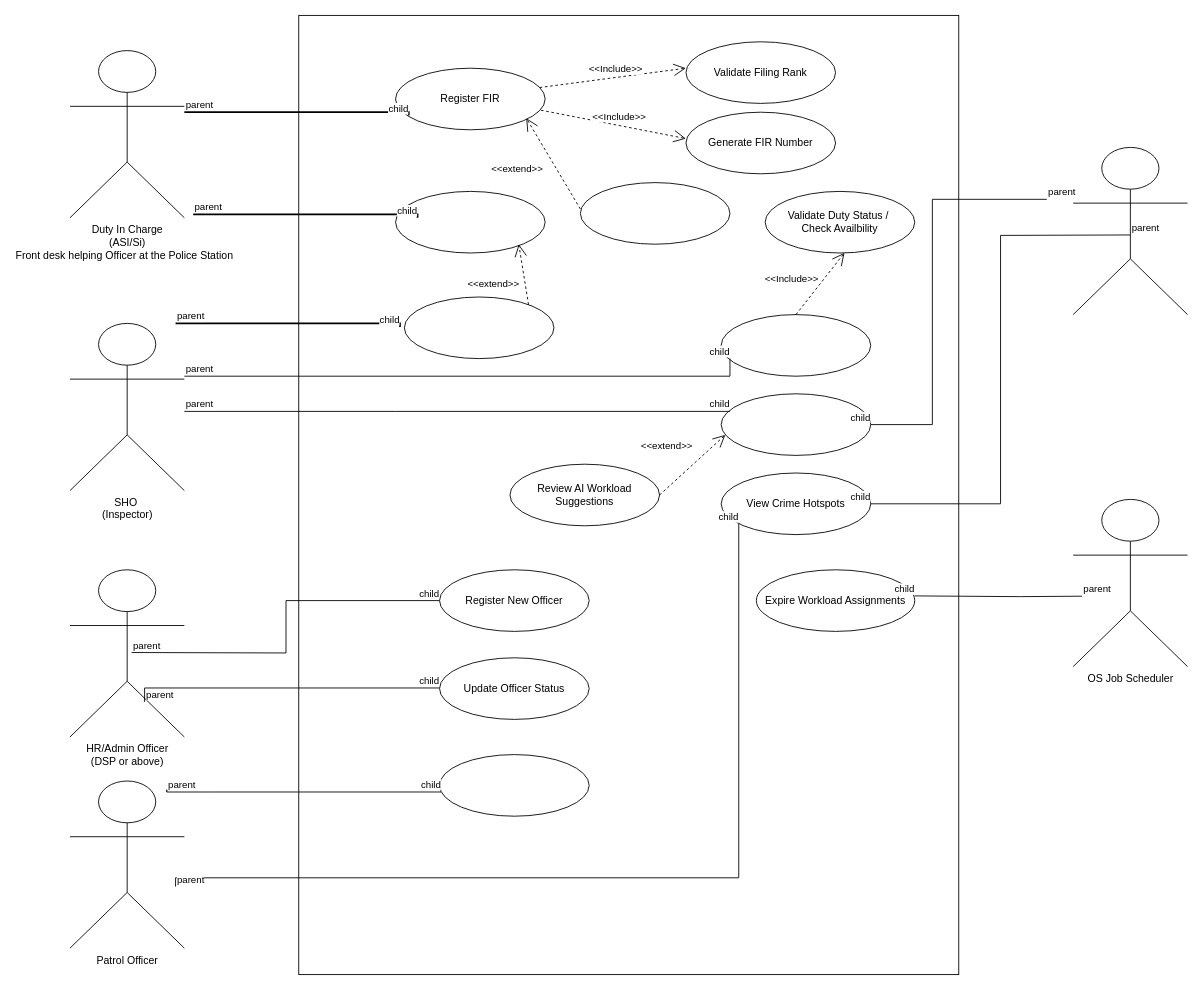
Image size: 1203x990. Some labels were removed from this diagram. Each missing label, with the centre of its shape:
AI Analytics Engine: the point at 1130,231
Approve Case Closure: the point at 478,327
Assign Investigating Officer: the point at 795,424
Create Duty Roster: the point at 795,345
Deploy Officer: the point at 514,785
Register Citizen: the point at 654,213
Update Case Status: the point at 470,222
